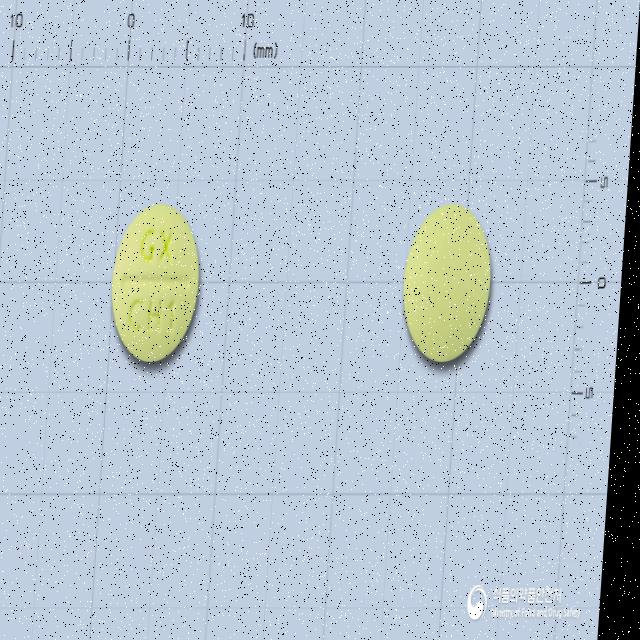Ciprotwo: (111, 202, 209, 364), (405, 203, 500, 363)
